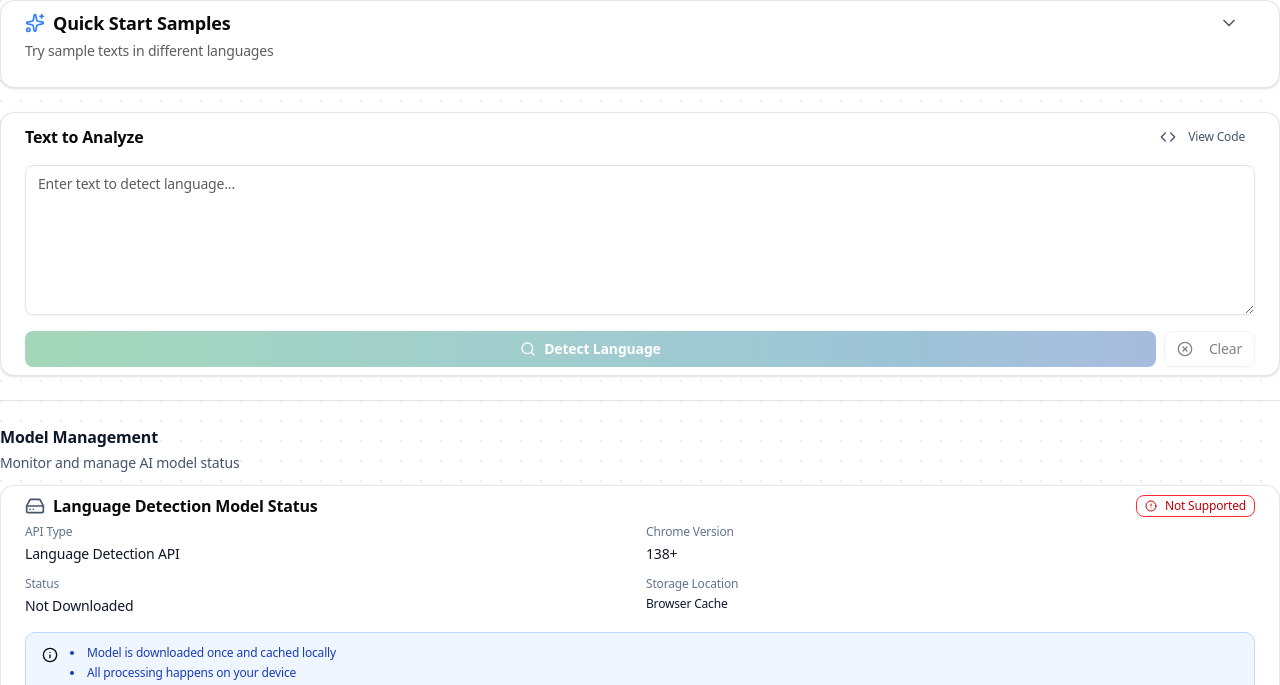
Test: Language Detection Integration › Complete Workflow › should update results when detecting different text
First detection
Type "Hello" into the text box.
click(640, 240); type("Hello")  # box [25, 165, 1255, 315]
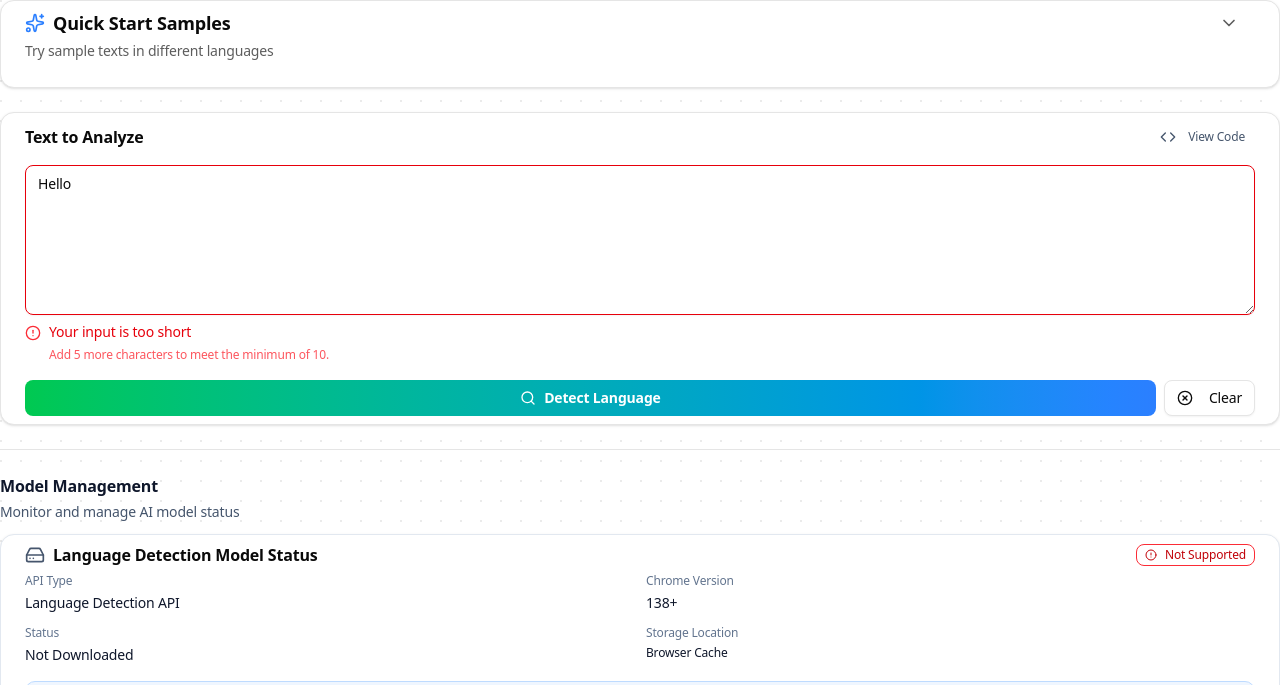
Click the button "Detect Language".
click(590, 398)  # box [25, 380, 1156, 416]
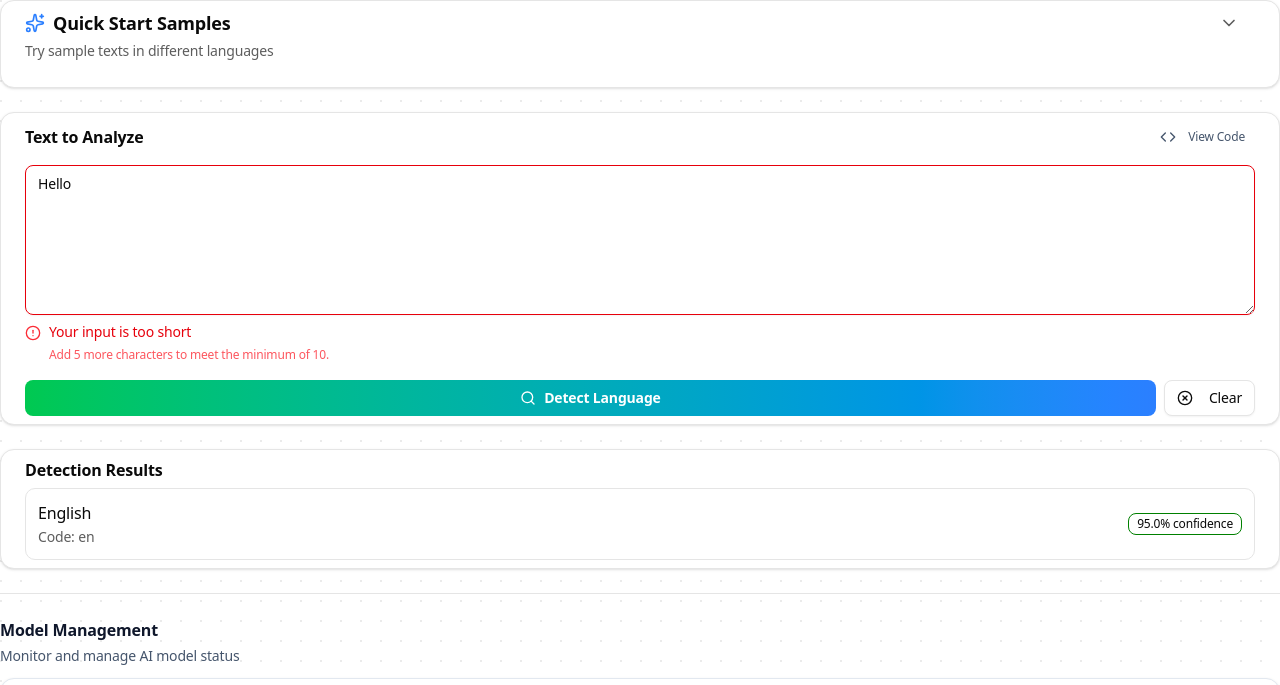
expect the text "English" is shown: met, box [38, 502, 91, 524]
Replace the text in the text box with "Hola" at coordinates (640, 240), box [25, 165, 1255, 315]
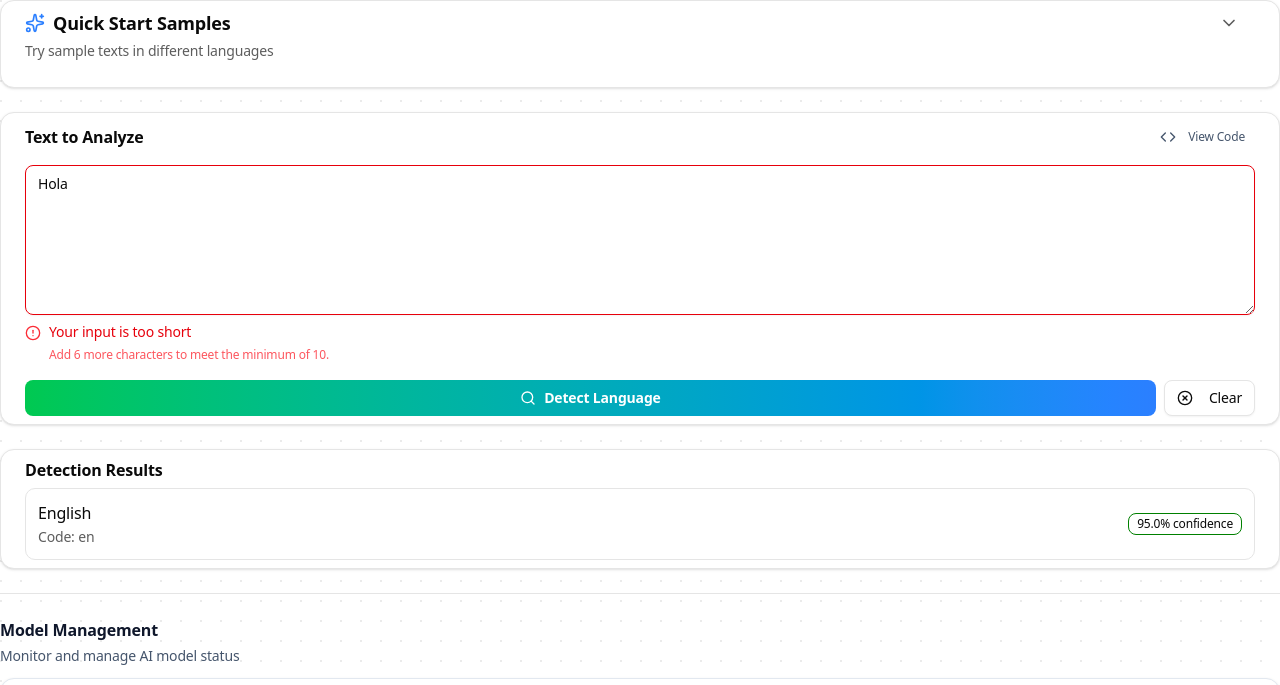
Click the button "Detect Language".
click(590, 398)  # box [25, 380, 1156, 416]
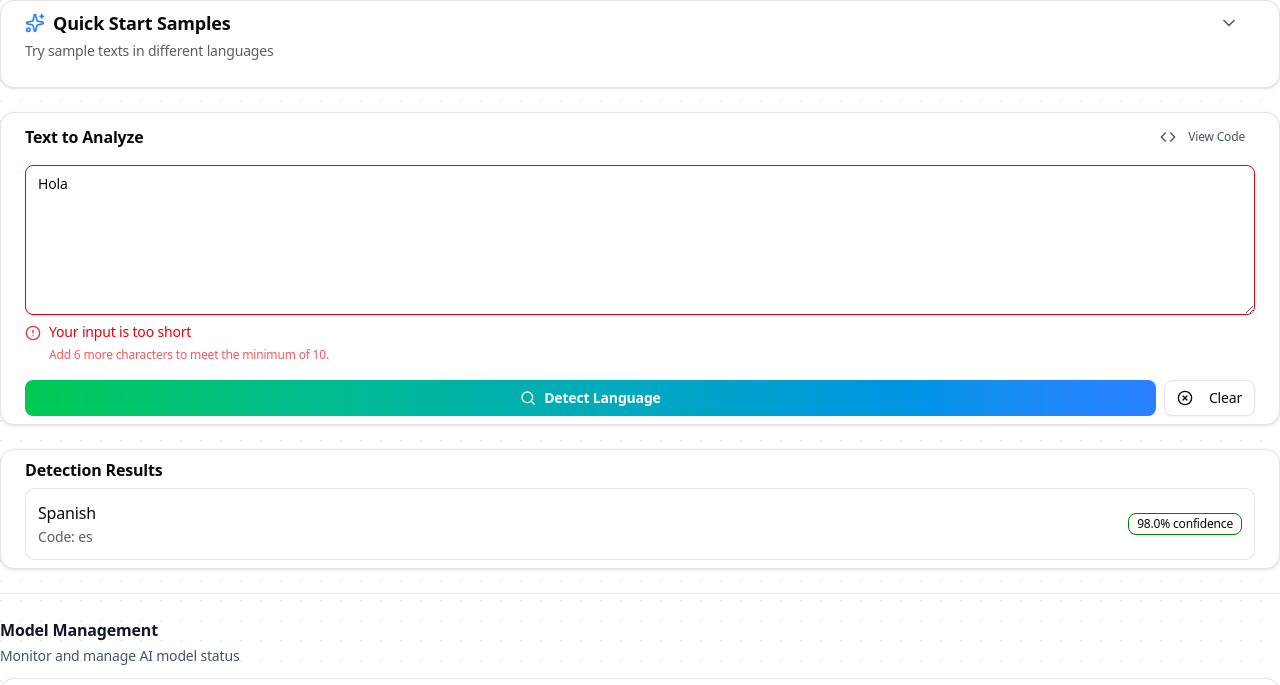
expect the text "Spanish" is shown: met, box [38, 502, 96, 524]
